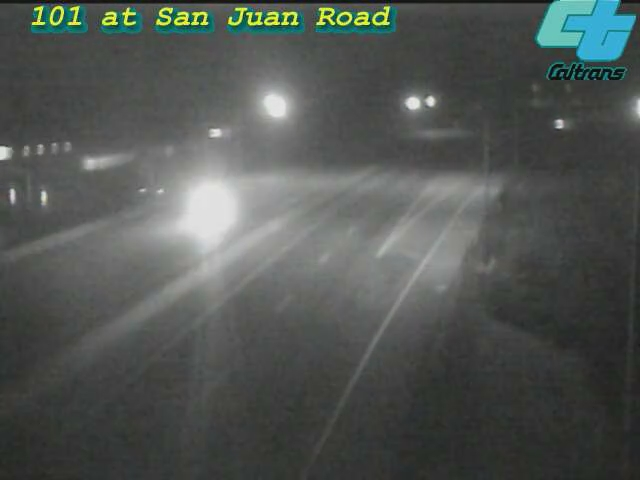vehicle: (174, 170, 254, 250)
